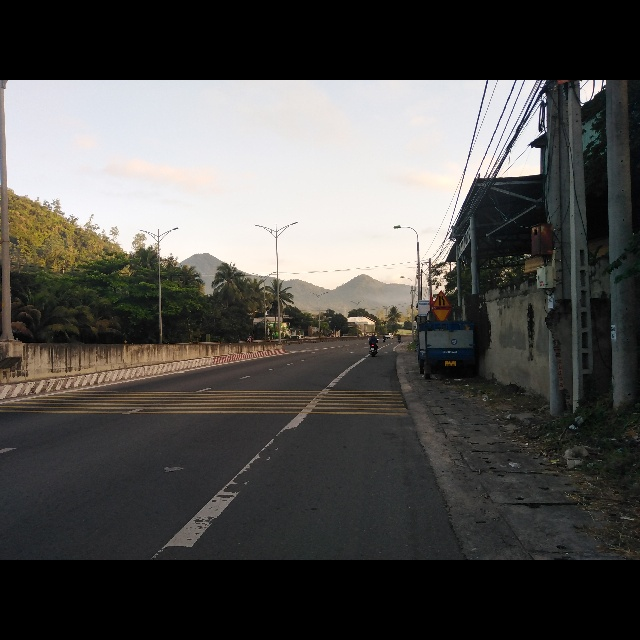Giao nhau với đường ưu tiên: (431, 309, 451, 320)
Đường bị hẹp bên phải: (431, 289, 452, 308)
